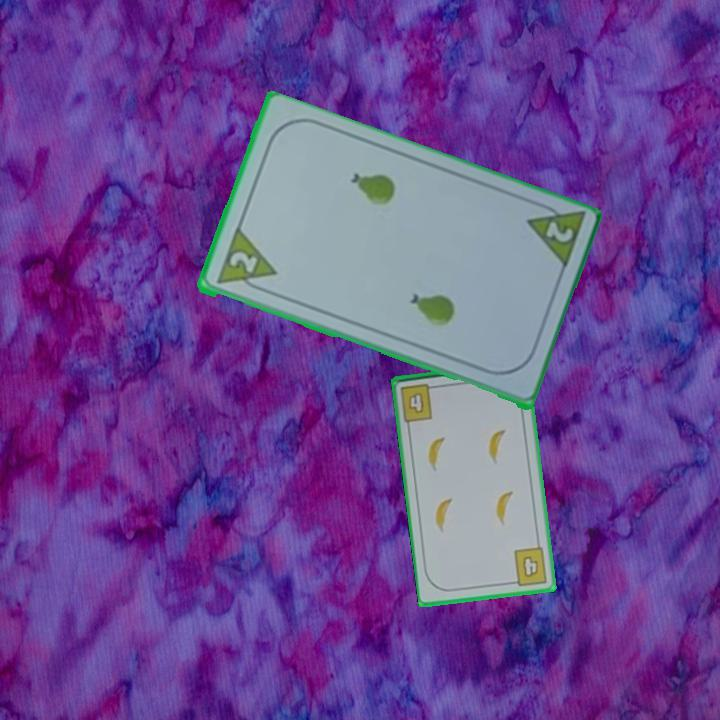2p: (212, 226, 279, 298), (541, 218, 576, 246)
4b: (507, 544, 551, 589), (397, 380, 441, 424)
